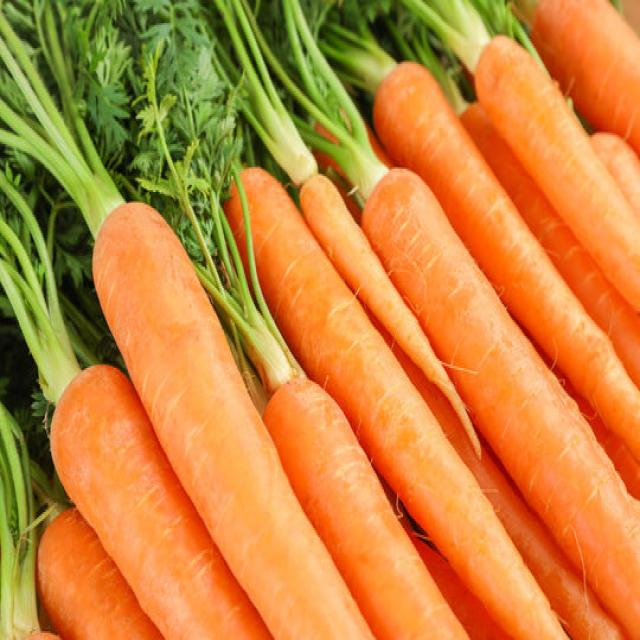Carrot: (221, 164, 574, 638), (90, 199, 376, 638), (371, 58, 639, 466), (47, 361, 274, 638), (260, 375, 472, 638), (298, 170, 482, 460), (473, 32, 639, 315), (458, 438, 630, 638), (34, 505, 167, 638), (530, 0, 639, 156), (407, 530, 513, 638), (589, 130, 639, 215)
